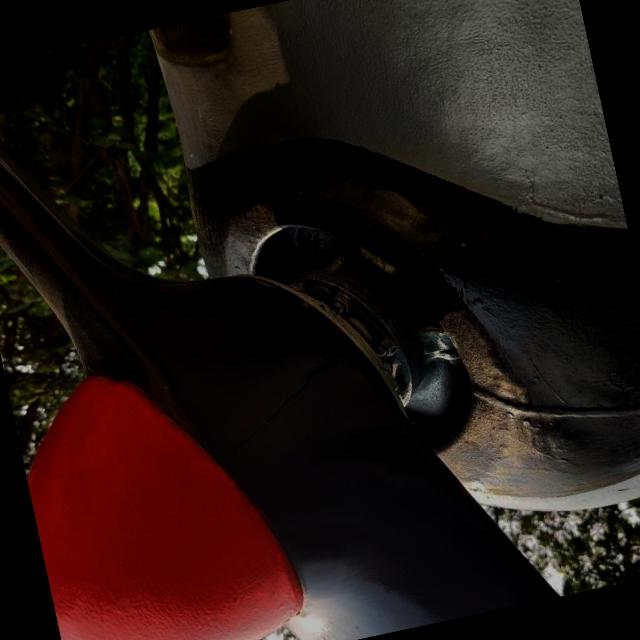crack: (194, 331, 384, 465)
